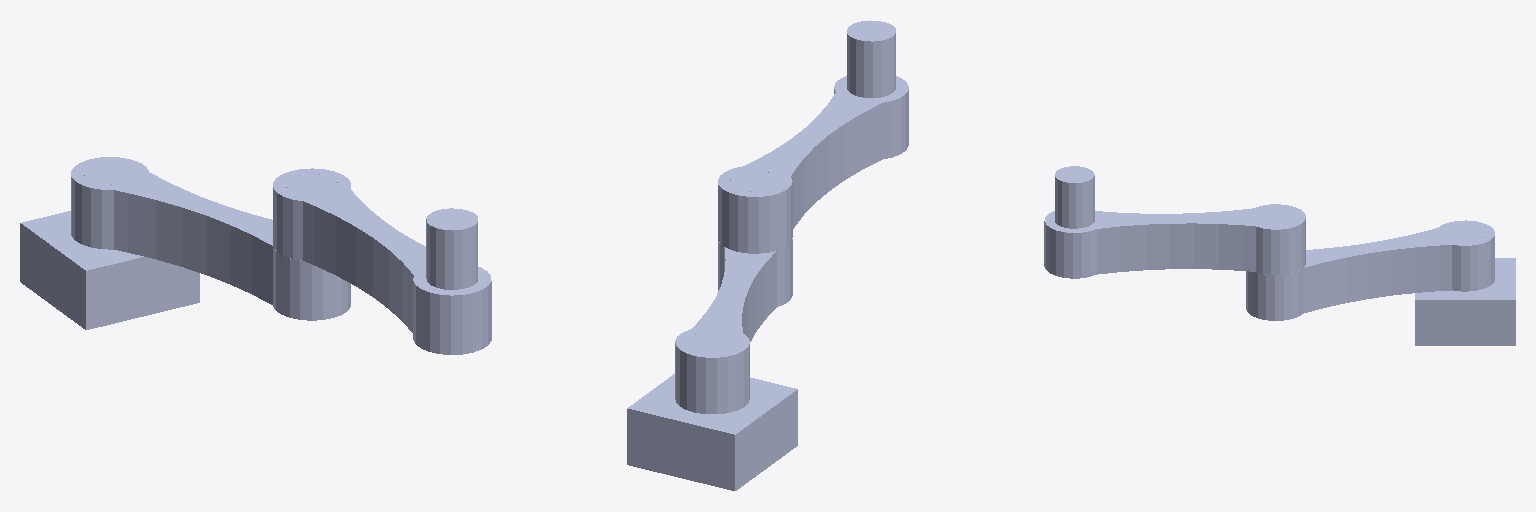
URDF robot description (robot_urdf):
<?xml version="1.0" encoding="utf-8"?>
<robot
  name="robot_urdf">
  <link
    name="base_link">
    <inertial>
      <origin
        xyz="0.043983 0.025052 0.088842"
        rpy="0 0 0" />
      <mass
        value="0.56283" />
      <inertia
        ixx="0.00067975"
        ixy="-5.3938E-21"
        ixz="0"
        iyy="0.0008459"
        iyz="-4.7116E-20"
        izz="0.00067975" />
    </inertial>
    <visual>
      <origin
        xyz="0 0 0"
        rpy="0 0 0" />
      <geometry>
        <mesh
          filename="package://robot_urdf/meshes/base_link.STL" />
      </geometry>
      <material
        name="">
        <color
          rgba="0.79216 0.81961 0.93333 1" />
      </material>
    </visual>
    <collision>
      <origin
        xyz="0 0 0"
        rpy="0 0 0" />
      <geometry>
        <mesh
          filename="package://robot_urdf/meshes/base_link.STL" />
      </geometry>
    </collision>
  </link>
  <link
    name="first_arm">
    <inertial>
      <origin
        xyz="-0.12572 0.03143 -0.00077706"
        rpy="0 0 0" />
      <mass
        value="0.48857" />
      <inertia
        ixx="0.0003187"
        ixy="0.00023336"
        ixz="-1.7965E-05"
        iyy="0.0030665"
        iyz="1.4423E-06"
        izz="0.0032251" />
    </inertial>
    <visual>
      <origin
        xyz="0 0 0"
        rpy="0 0 0" />
      <geometry>
        <mesh
          filename="package://robot_urdf/meshes/first_arm.STL" />
      </geometry>
      <material
        name="">
        <color
          rgba="0.79216 0.81961 0.93333 1" />
      </material>
    </visual>
    <collision>
      <origin
        xyz="0 0 0"
        rpy="0 0 0" />
      <geometry>
        <mesh
          filename="package://robot_urdf/meshes/first_arm.STL" />
      </geometry>
    </collision>
  </link>
  <joint
    name="joint1"
    type="continuous">
    <origin
      xyz="0.043983 -0.088842 0.04447"
      rpy="1.5708 0 1.9294" />
    <parent
      link="base_link" />
    <child
      link="first_arm" />
    <axis
      xyz="0 1 0" />
  </joint>
  <link
    name="second_arm">
    <inertial>
      <origin
        xyz="-0.12572 0.03143 -0.00077706"
        rpy="0 0 0" />
      <mass
        value="0.48857" />
      <inertia
        ixx="0.0003187"
        ixy="0.00023336"
        ixz="-1.7963E-05"
        iyy="0.0030664"
        iyz="1.4415E-06"
        izz="0.0032251" />
    </inertial>
    <visual>
      <origin
        xyz="0 0 0"
        rpy="0 0 0" />
      <geometry>
        <mesh
          filename="package://robot_urdf/meshes/second_arm.STL" />
      </geometry>
      <material
        name="">
        <color
          rgba="0.79216 0.81961 0.93333 1" />
      </material>
    </visual>
    <collision>
      <origin
        xyz="0 0 0"
        rpy="0 0 0" />
      <geometry>
        <mesh
          filename="package://robot_urdf/meshes/second_arm.STL" />
      </geometry>
    </collision>
  </link>
  <joint
    name="joint2"
    type="continuous">
    <origin
      xyz="-0.2 0.05 -0.0012362"
      rpy="0 -0.31265 0" />
    <parent
      link="first_arm" />
    <child
      link="second_arm" />
    <axis
      xyz="0 1 0" />
  </joint>
</robot>

--- Facts derived from the render (not from the file) ---
Views: 3 orthographic renders of the robot side by side, from view 1: azimuth 30°, elevation 25°; view 2: azimuth 150°, elevation 25°; view 3: azimuth 270°, elevation 25°.
Robot: robot_urdf — 3 links, 2 joints (2 continuous); root link base_link; default pose: every joint at zero.
Links seen in each view (by area): view 1: second_arm, first_arm, base_link; view 2: second_arm, base_link, first_arm; view 3: second_arm, first_arm, base_link.
Boxes of the visible links, <box> form: second_arm: <box>273,168,491,354</box>; first_arm: <box>71,157,350,320</box>; base_link: <box>20,162,199,329</box>; second_arm: <box>718,20,908,253</box>; base_link: <box>627,332,797,490</box>; first_arm: <box>675,171,792,413</box>; second_arm: <box>1044,166,1305,278</box>; first_arm: <box>1246,208,1494,320</box>; base_link: <box>1415,225,1515,345</box>.
Size in the robot's own frame: 0.1569 by 0.4675 by 0.2 metres.
3 mesh visuals loaded from 3 distinct referenced files (3 binary STL).